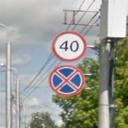speed_limit_40: (52, 30, 87, 62)
